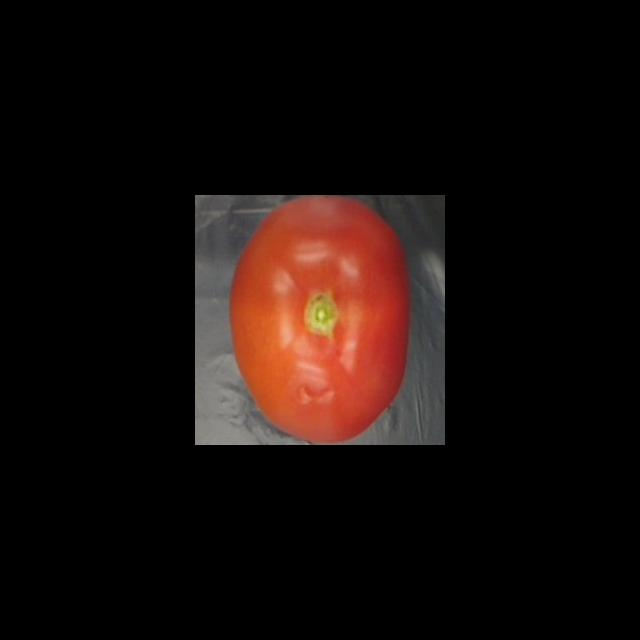tomato: (225, 195, 418, 445)
